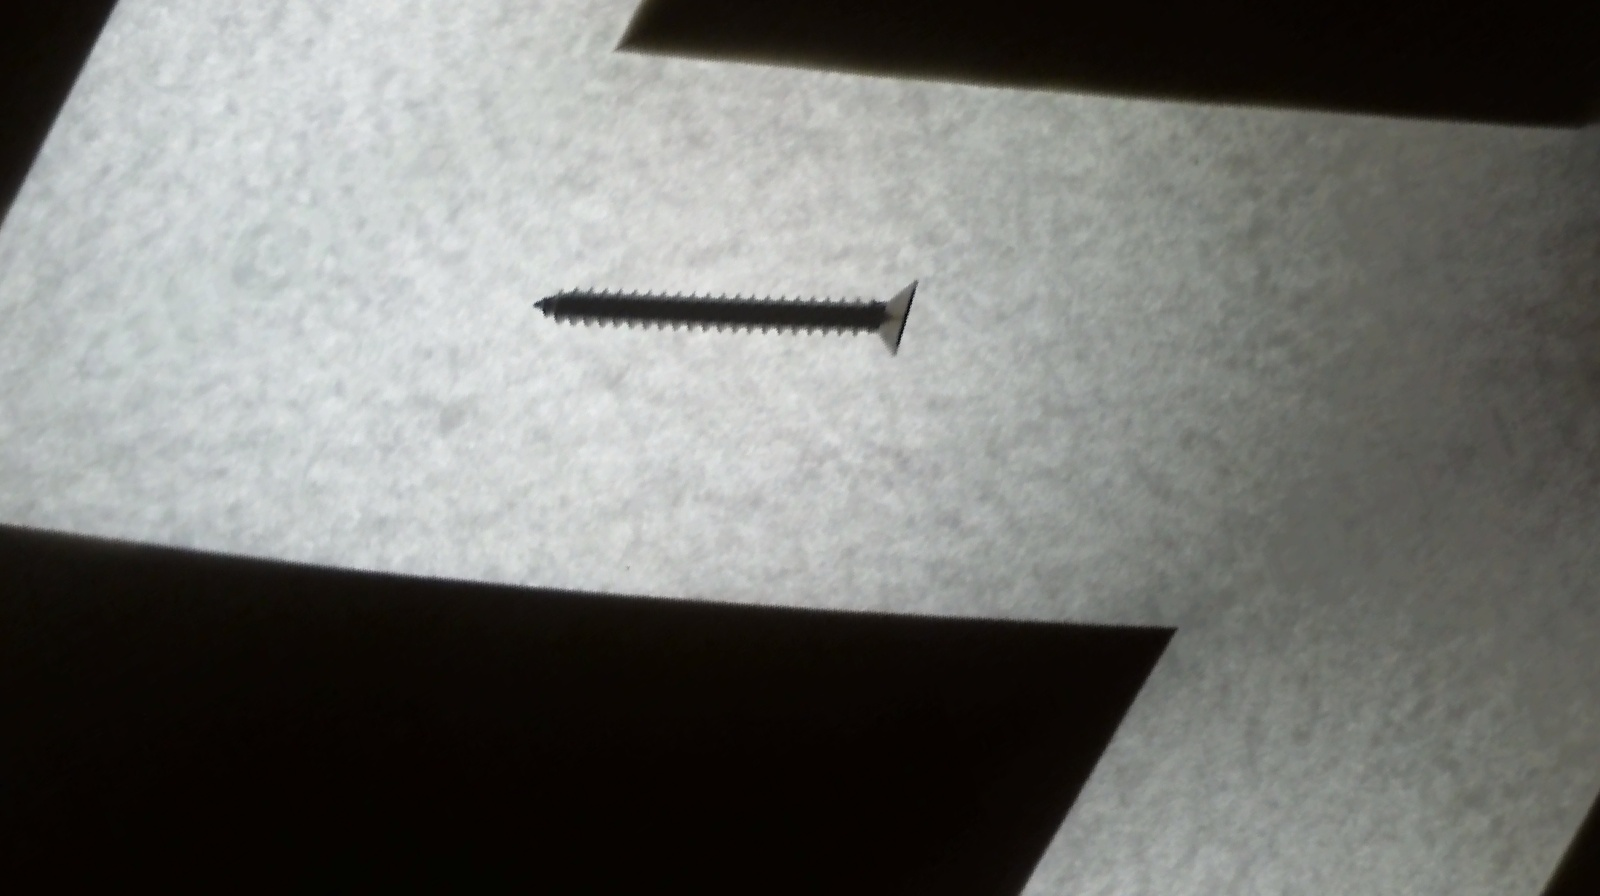S002: (512, 84, 952, 533)
